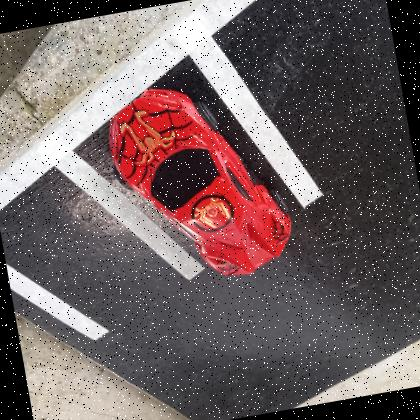Car: (107, 85, 292, 275)
